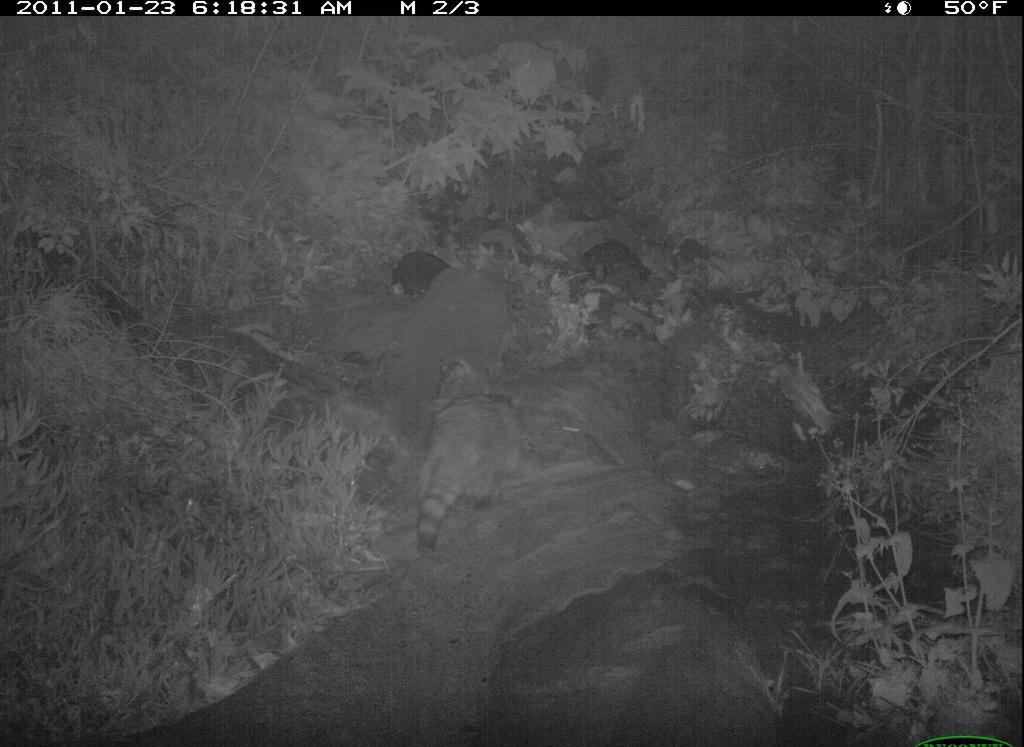raccoon: (409, 387, 537, 561)
